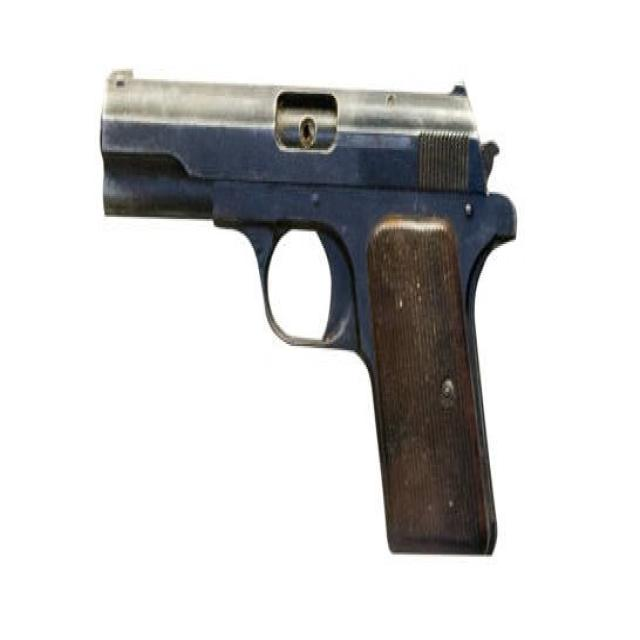pistol: (92, 49, 523, 577)
